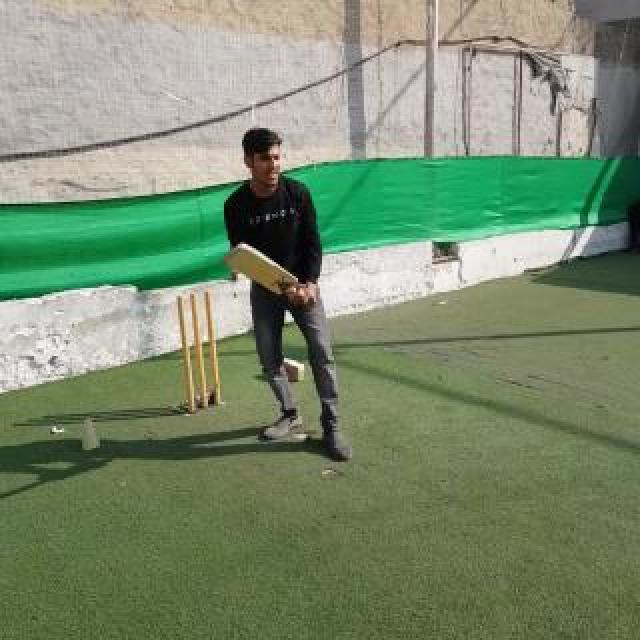bat: (222, 242, 314, 306)
